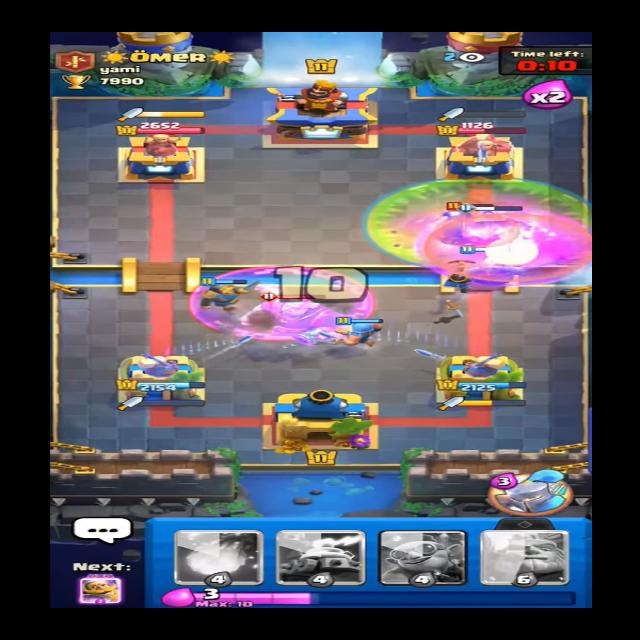evo-royal-giant: (227, 292, 352, 349)
rage: (193, 267, 376, 340)
